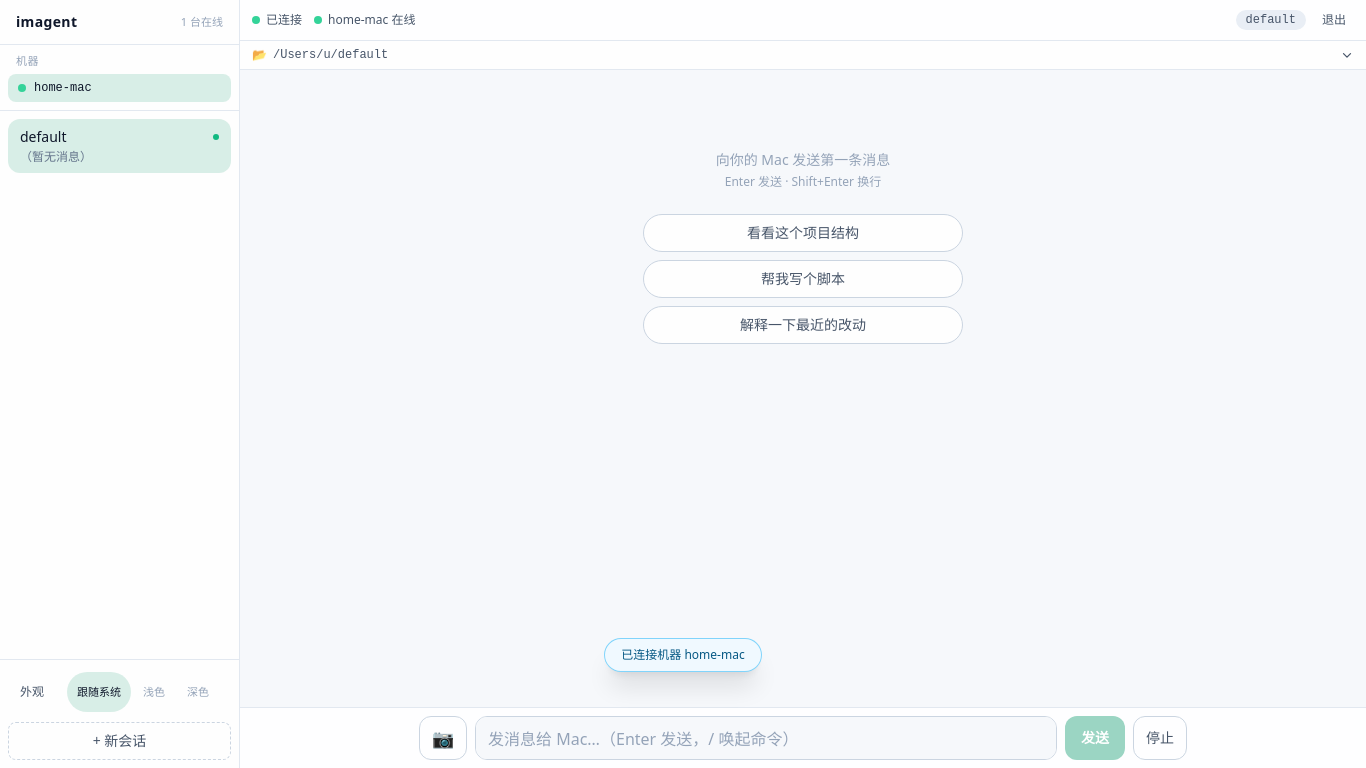
App 工作空间（v1.6） › 新会话弹层（v1.36）：快照缺席 backends → 无引擎行（优雅降级），目录区照常
Step 1. Click the button "+ 新会话" → coordinates (120, 741), box [8,722,231,760]
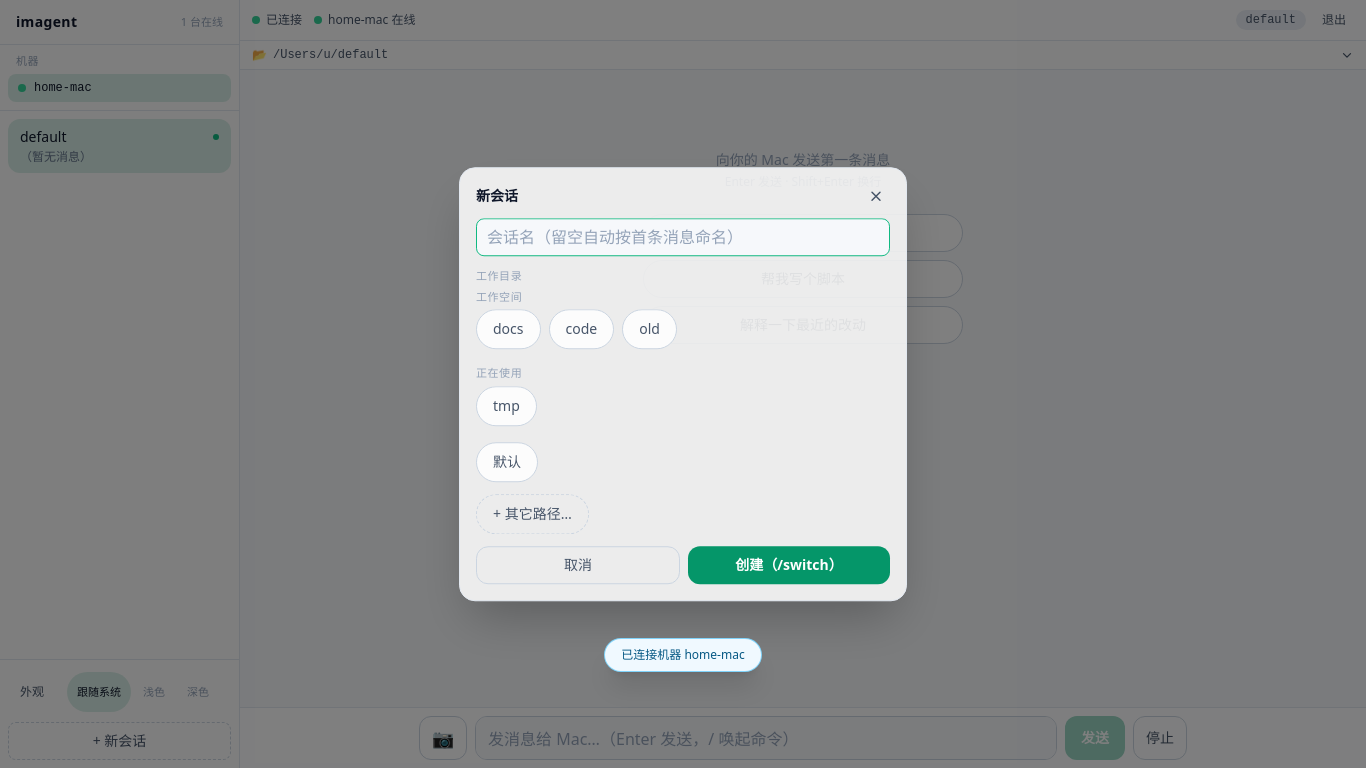
Expected: the element labelled "工作空间" is shown, [476,289,677,349]
